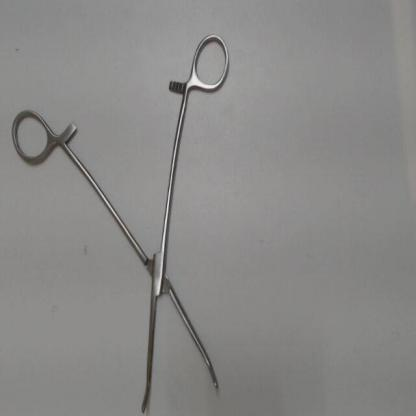Lahey Forceps: (9, 27, 233, 414)
